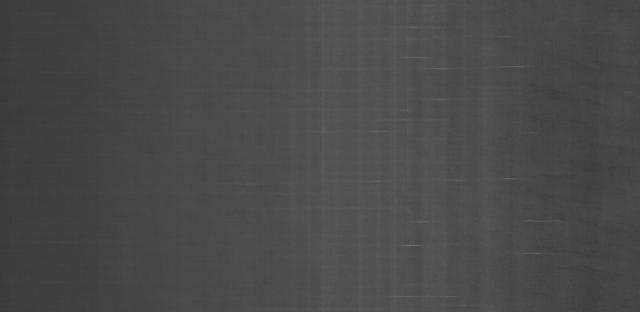waist_folding: (274, 10, 565, 296)
